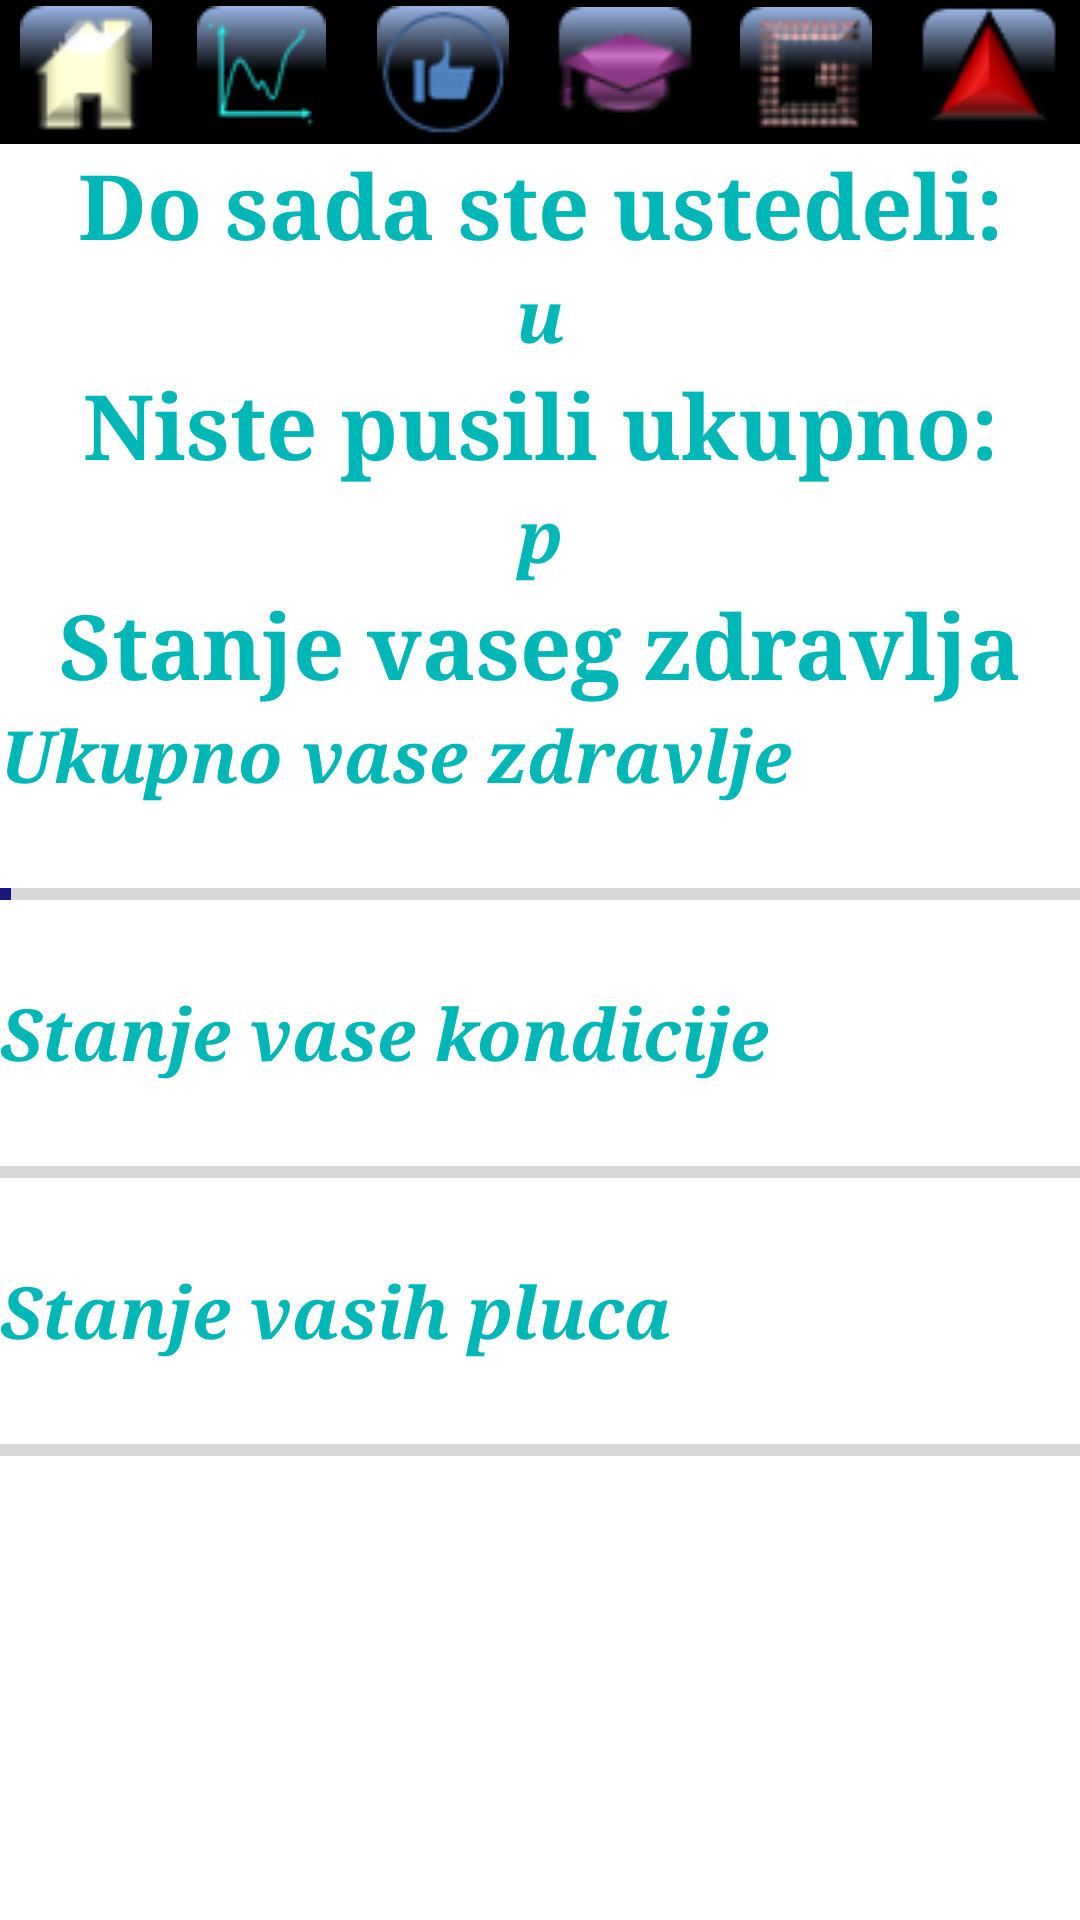

Named icons in this screenshot (1080 x 1920) and their centers, (x,y):
Achievements: (625,59)
Game: (806,67)
Home: (86,68)
Motivations: (443,69)
Progress: (261,65)
